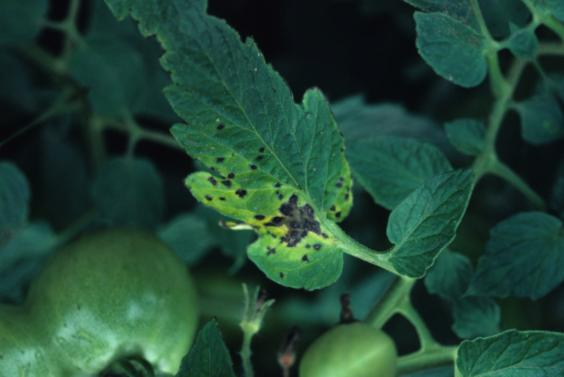Tomato Early blight leaf: (124, 0, 400, 319)
